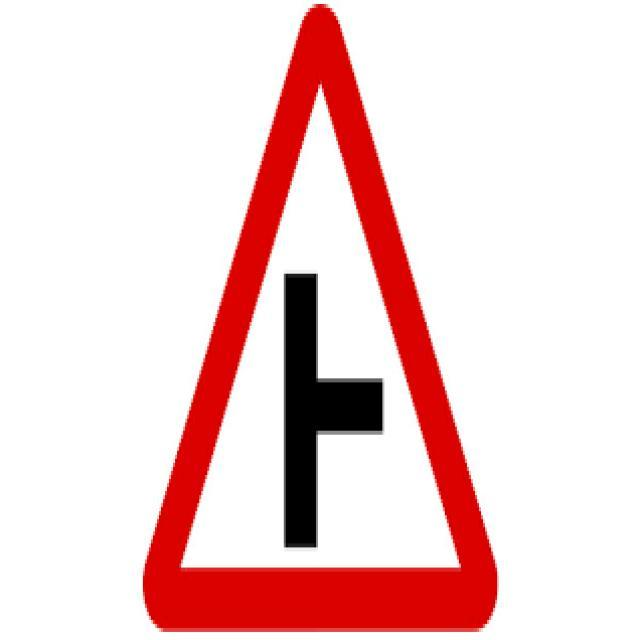side road right: (146, 21, 495, 626)
